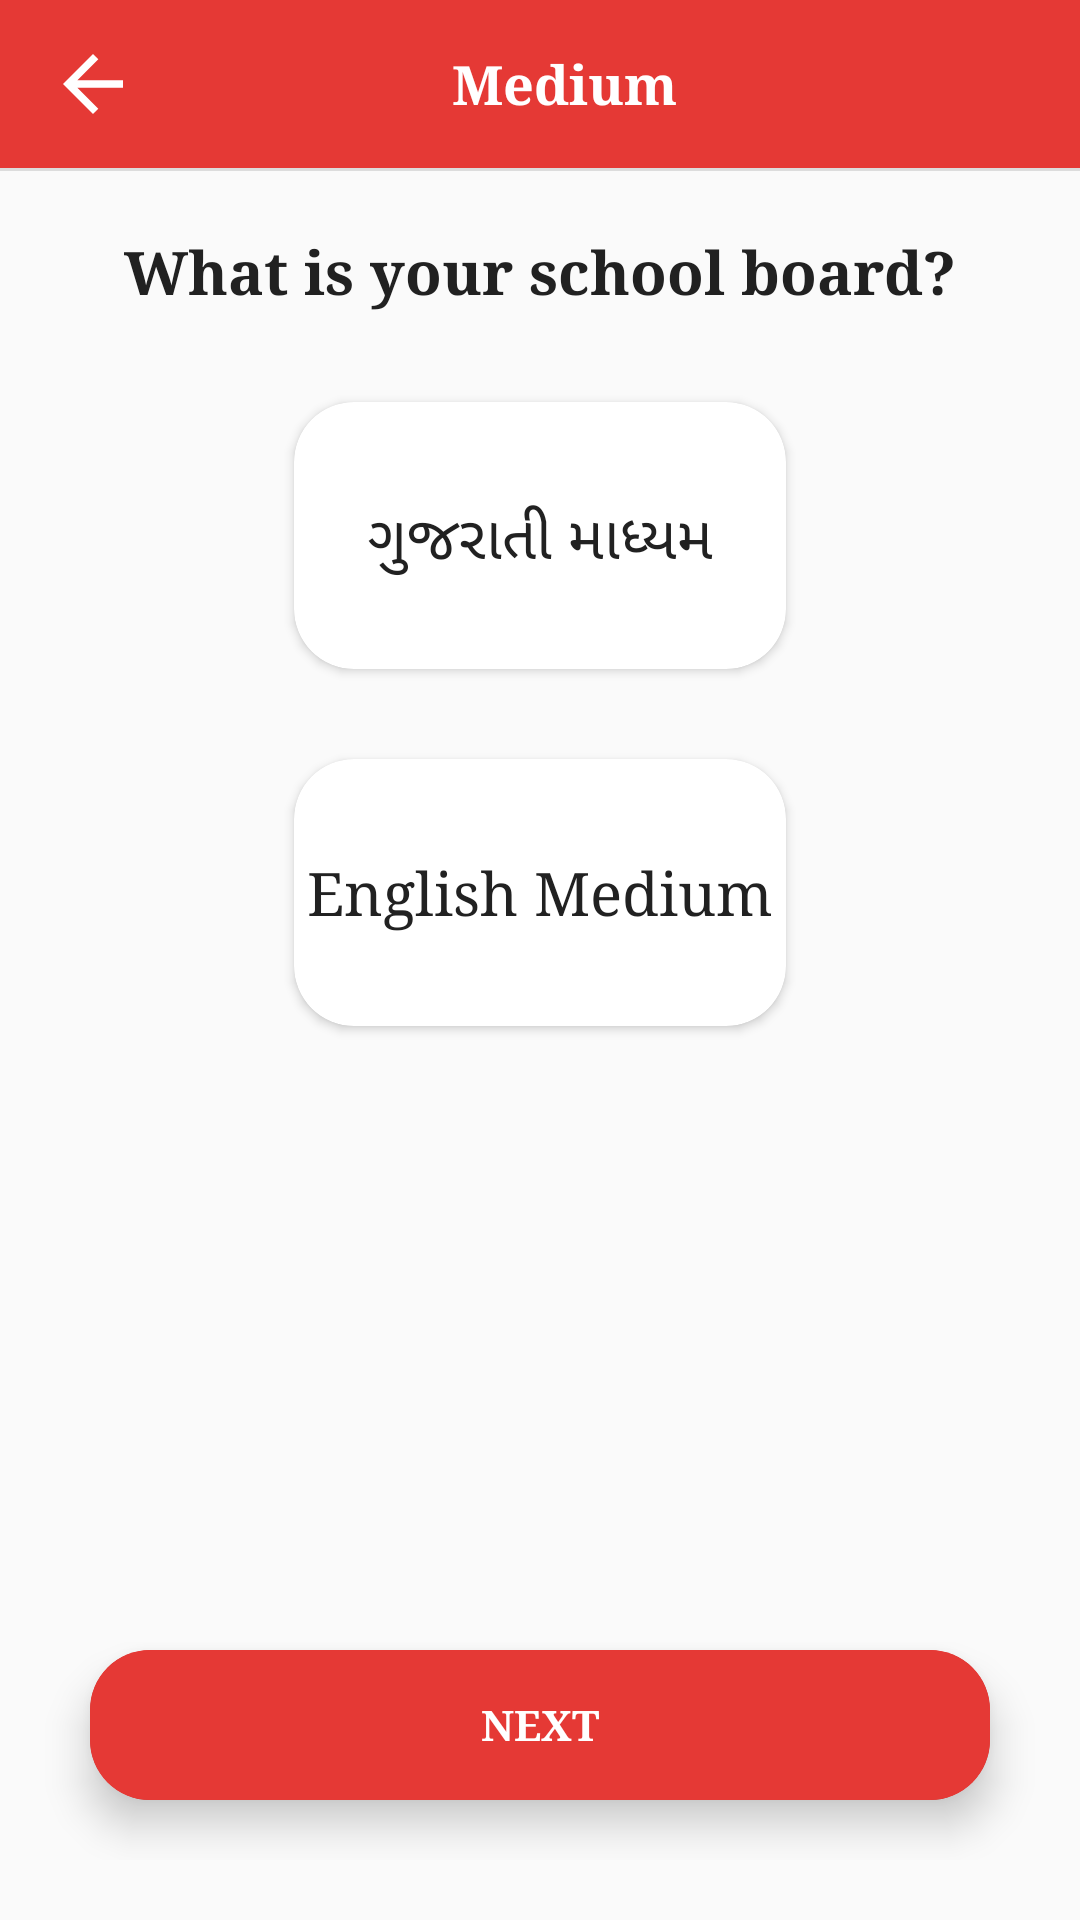

Where icons sit on this 1080px x 1920px app screen, as region(x1, y1, x2, y2):
arrow back: region(63, 54, 123, 114)
